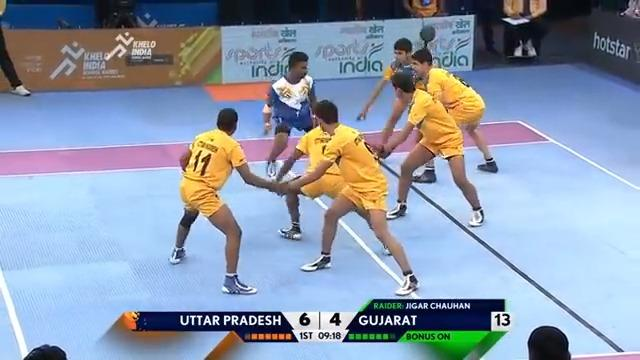Player: (272, 99, 420, 295), (168, 107, 289, 295), (371, 69, 485, 227), (409, 47, 498, 183), (356, 36, 424, 167)
Raider: (262, 50, 319, 180)
referee: (500, 0, 549, 62), (0, 0, 31, 96), (470, 0, 501, 56), (97, 0, 138, 28), (22, 343, 67, 359)
